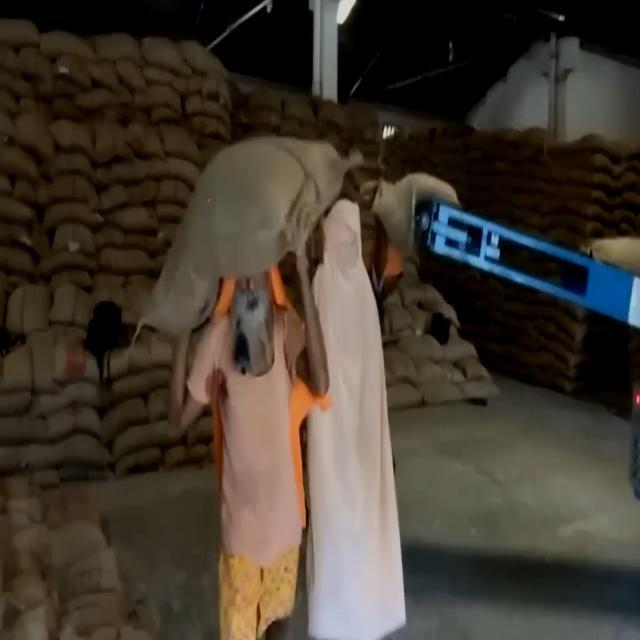gunny_bag: (136, 136, 348, 344), (0, 328, 61, 392), (79, 116, 132, 166), (5, 280, 52, 336), (46, 282, 100, 330), (42, 404, 104, 443), (10, 111, 54, 162), (30, 438, 114, 464), (94, 244, 155, 279), (86, 28, 142, 66), (182, 39, 230, 80), (43, 147, 97, 183), (49, 113, 94, 156), (39, 27, 94, 62), (42, 202, 104, 230), (36, 250, 98, 278), (127, 162, 205, 184), (0, 190, 42, 230), (568, 132, 622, 162), (140, 36, 188, 69), (1, 18, 46, 52), (416, 380, 464, 410), (0, 418, 53, 445), (395, 332, 442, 362), (74, 86, 128, 112), (152, 176, 196, 206), (113, 63, 148, 100), (554, 195, 600, 223), (503, 300, 556, 323), (0, 71, 37, 102), (564, 184, 612, 203), (284, 100, 314, 118)
